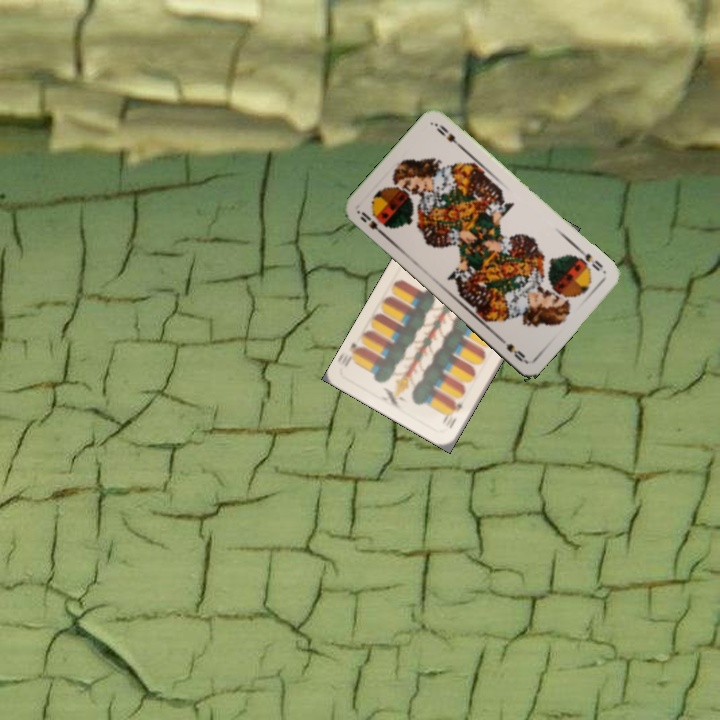E10: (440, 399, 465, 431)
SO: (354, 208, 388, 239), (574, 244, 605, 274)
